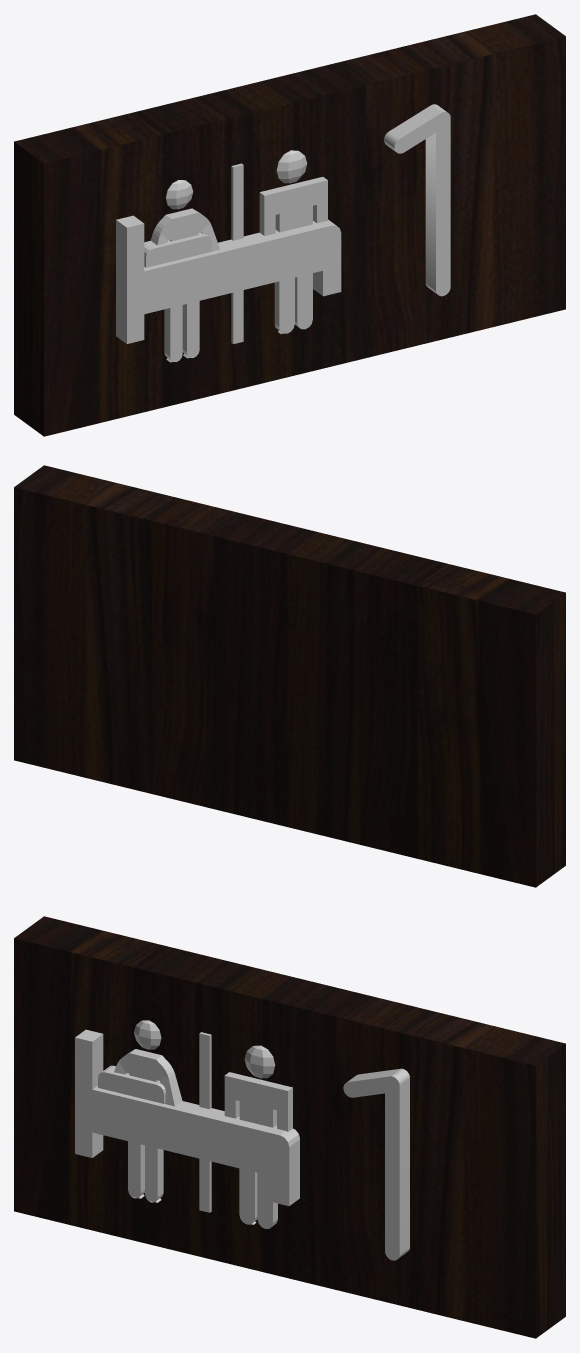
File: Toilet 1.fbx
3 views of the same model, one above another, from view 1: azimuth 30°, elevation 25°; view 2: azimuth 150°, elevation 25°; view 3: azimuth 330°, elevation 25° (orthographic).
Parts seen in each view (by area): view 1: Base, Bed, Cube, Text; view 2: Base; view 3: Base, Bed, Cube, Text.
Boxes of the visible parts, x1,y1,x2,y2 form: Base: [14, 14, 565, 436]; Bed: [116, 215, 341, 343]; Cube: [151, 150, 327, 362]; Text: [384, 104, 450, 296]; Base: [14, 465, 565, 887]; Base: [14, 916, 565, 1338]; Bed: [75, 1029, 299, 1205]; Cube: [114, 1020, 292, 1228]; Text: [343, 1068, 409, 1260].
Size of the model in its own units: 200 by 100 by 27.26.
